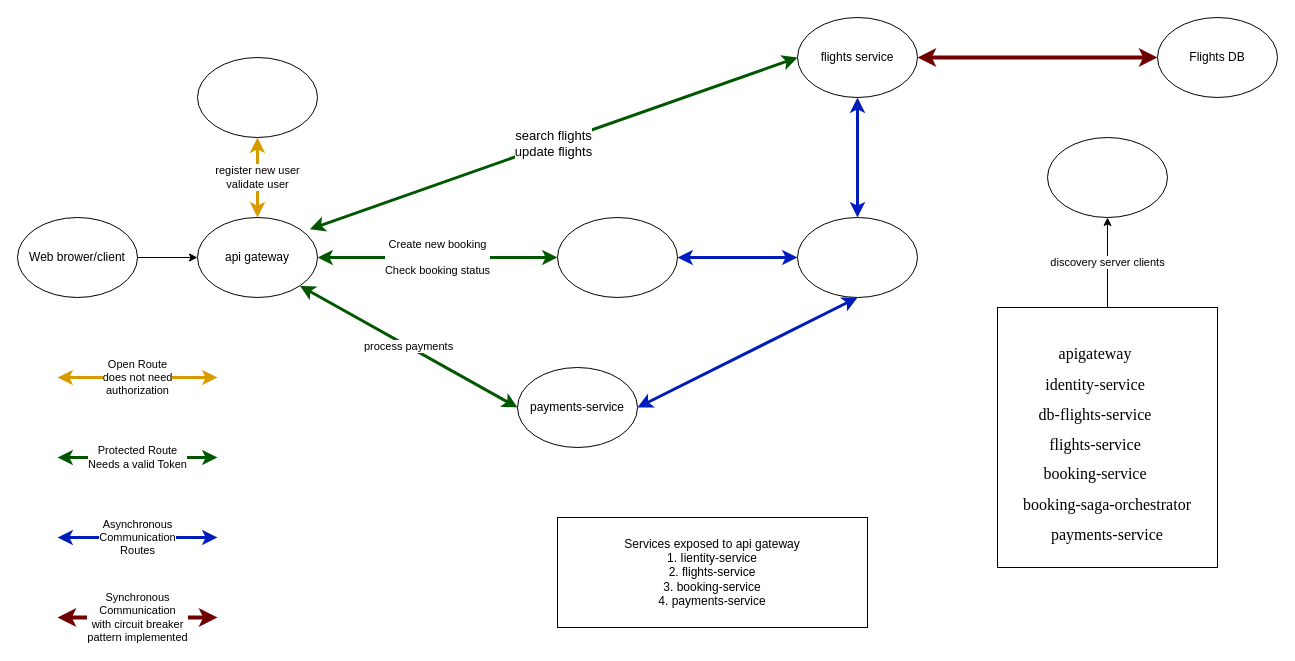
Some shapes in this 1295 by 661 pixel diagram are drawn without their labels. Each missing label, with the box of its shape:
Auth/ Identity service: (196, 56, 318, 138)
booking saga orchestrator: (796, 216, 918, 298)
booking service check status of order: (556, 216, 678, 298)
service registery: (1046, 136, 1168, 218)
